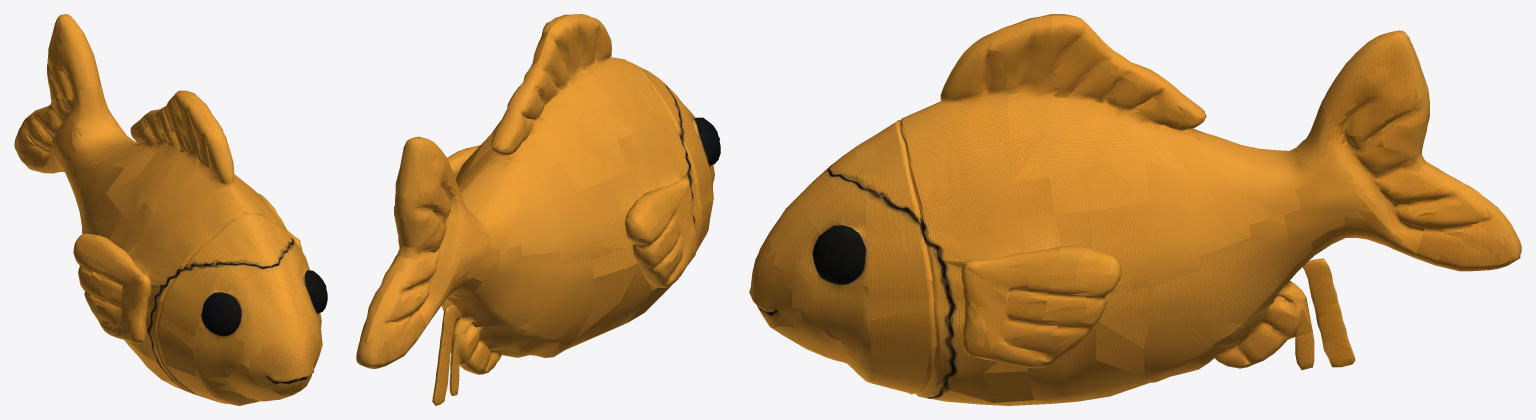
Rendered from meshy-fish-toy.glb.
3 renders of one model, left to right at view 1: azimuth 30°, elevation 25°; view 2: azimuth 150°, elevation 25°; view 3: azimuth 270°, elevation 25°, orthographic. The views are drawn at different scales.
Size of the model in its own units: 0.7632 by 1.04 by 1.91.
1 material, 1 textured.
